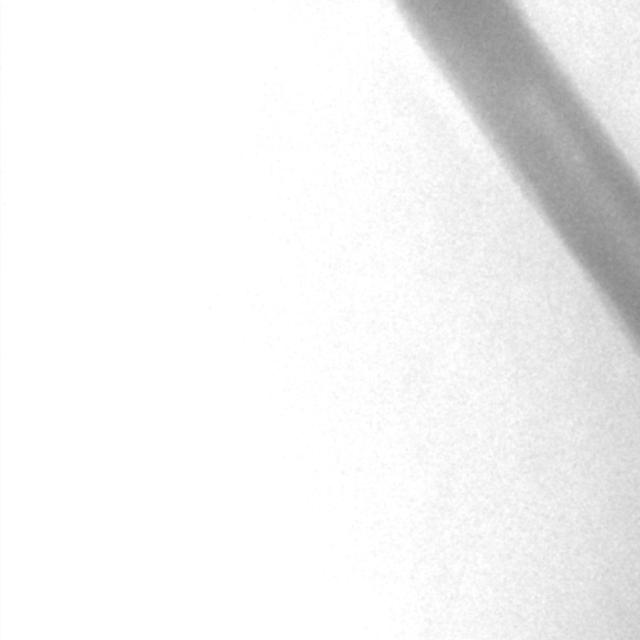air hole: (570, 147, 584, 163)
